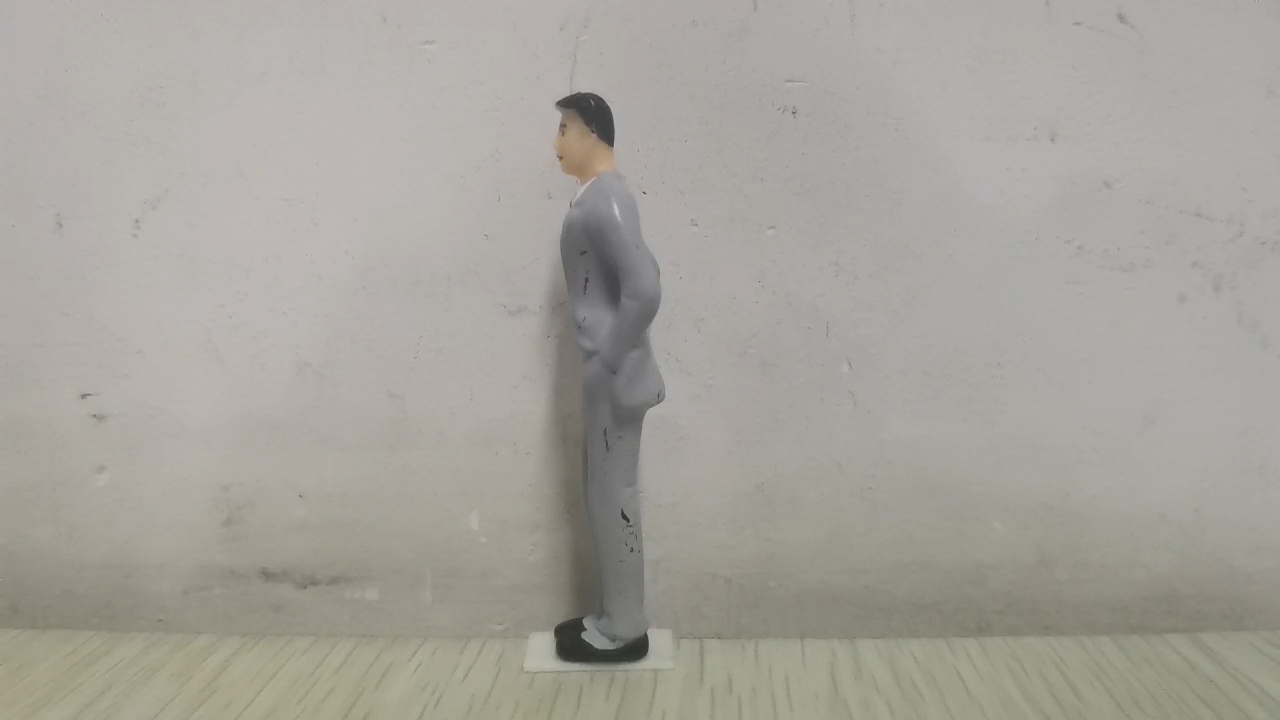person: (550, 89, 667, 665)
